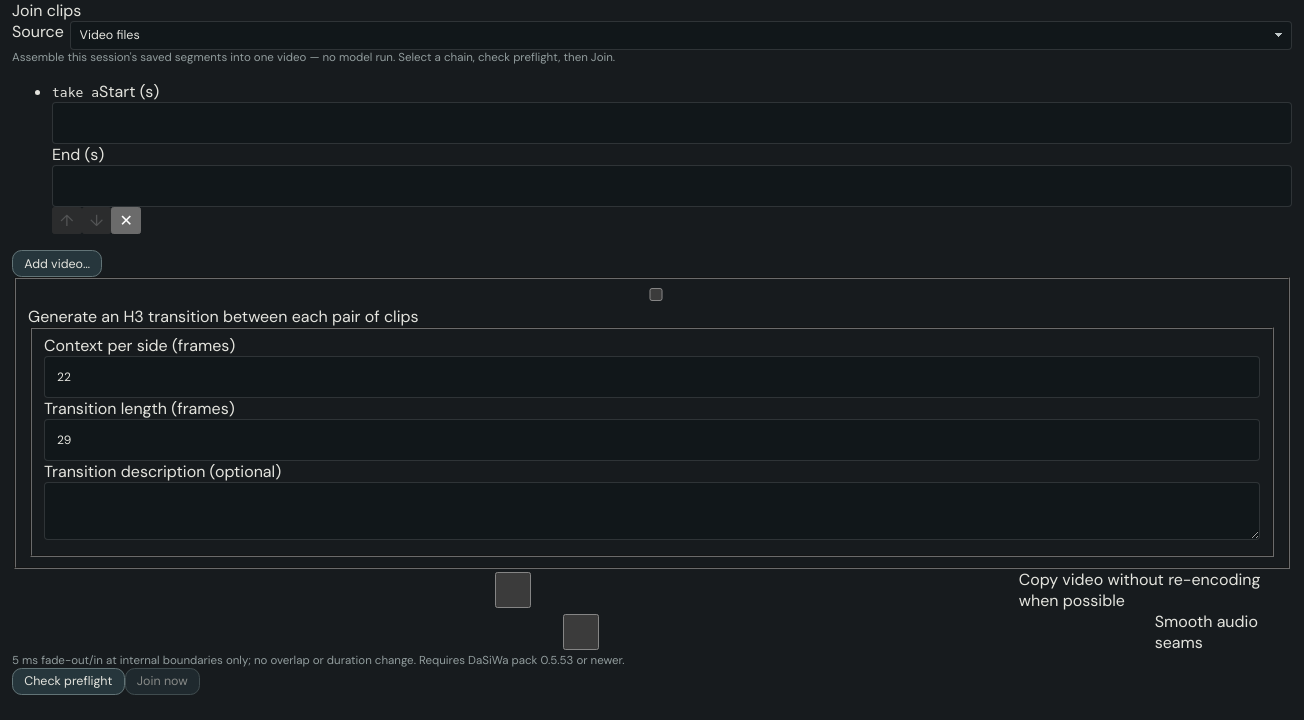
it: second cut missing stops future submissions and retains first bridge
The image size is (1304, 720).
Earlier steps of the test are not shown.
Click the button "Add video…" at (57, 264), box [12, 250, 102, 277]
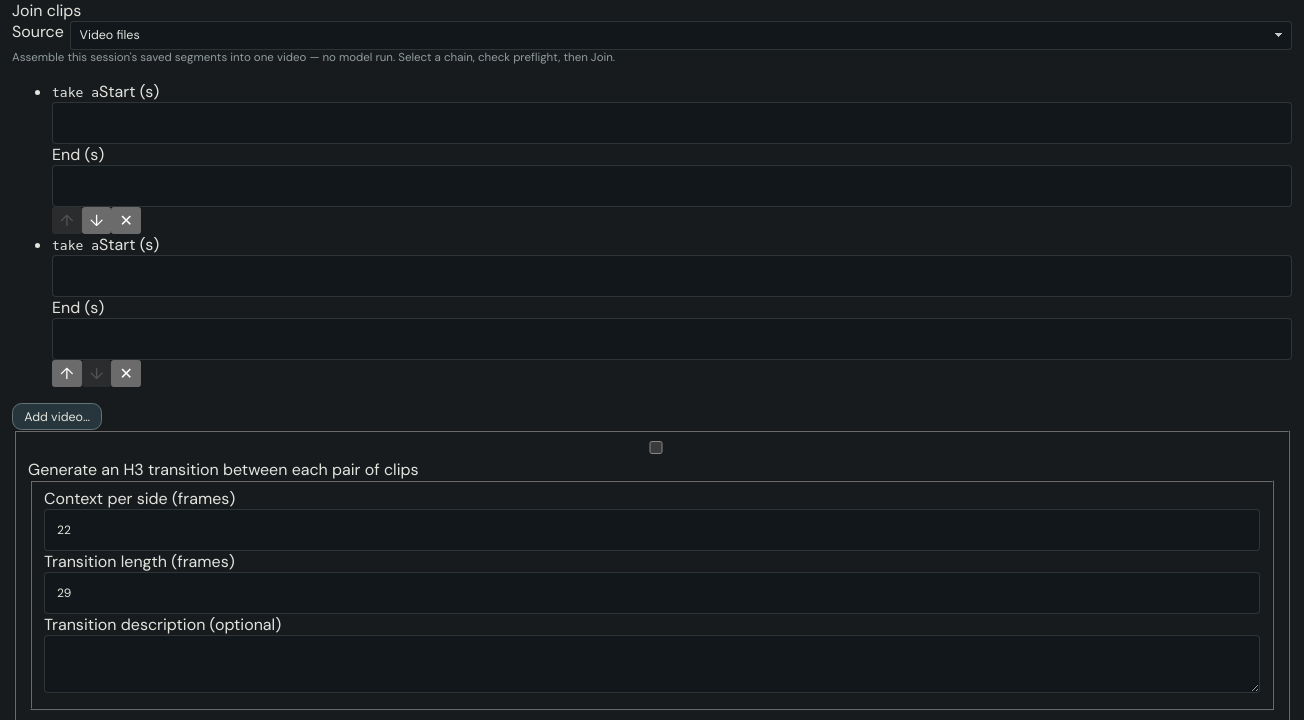
Click the button "Add video…" at (57, 417), box [12, 403, 102, 430]
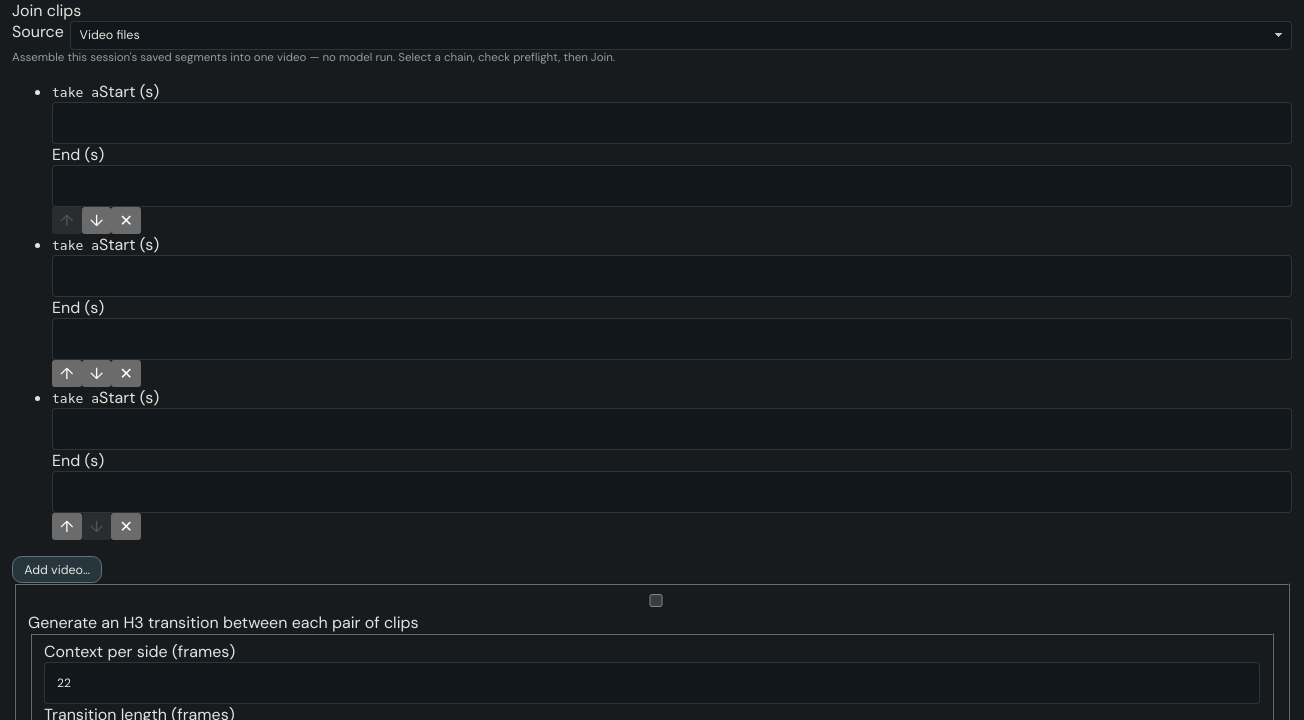
Click the button "Add video…" at (57, 570), box [12, 556, 102, 583]
(page scrolled)
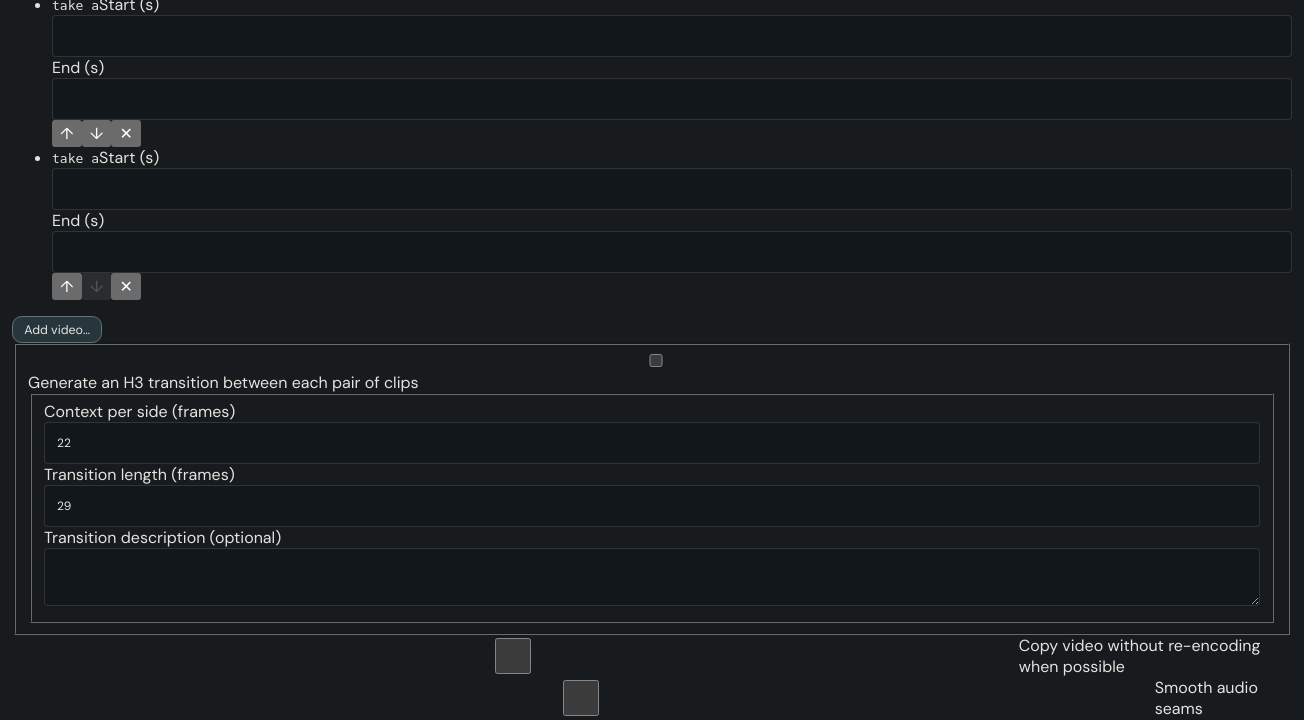
Click the checkbox labelled "Generate an H3 transition between each pair of clips" at (656, 360), box [32, 354, 1280, 367]
(page scrolled)
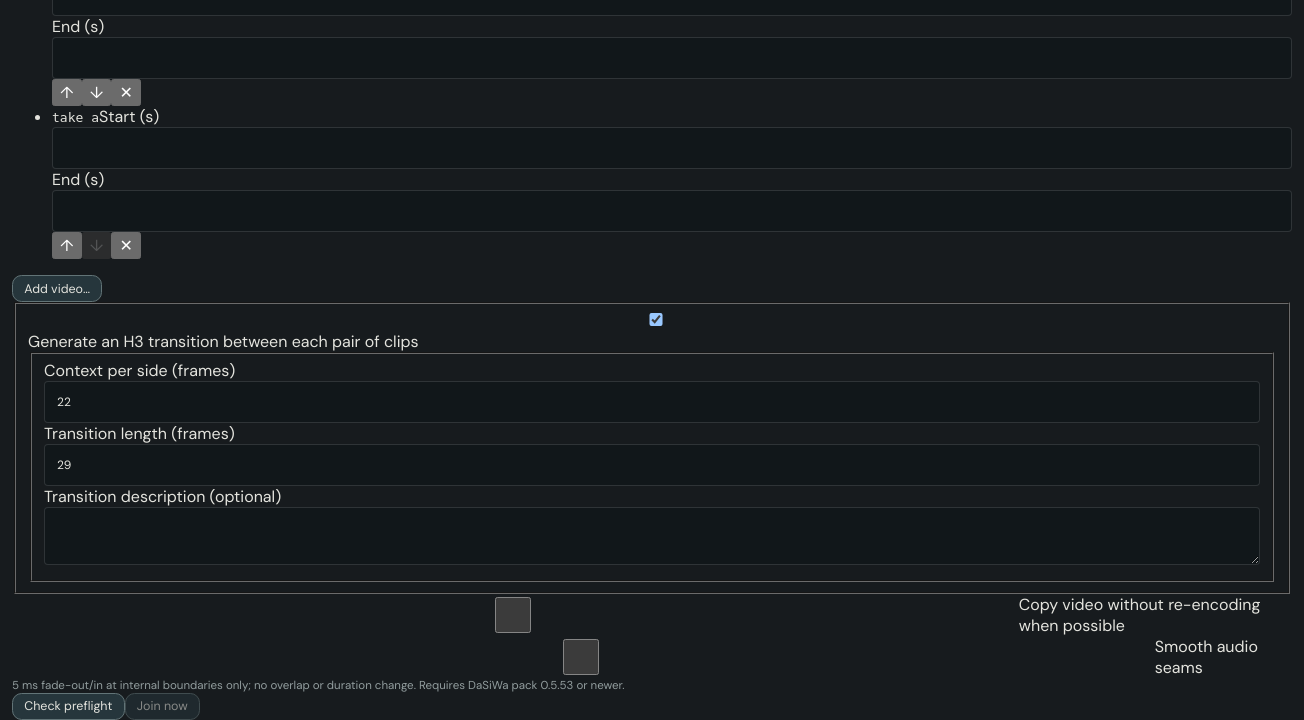
Click the button "Check preflight" at (68, 706), box [12, 693, 125, 719]
(page scrolled)
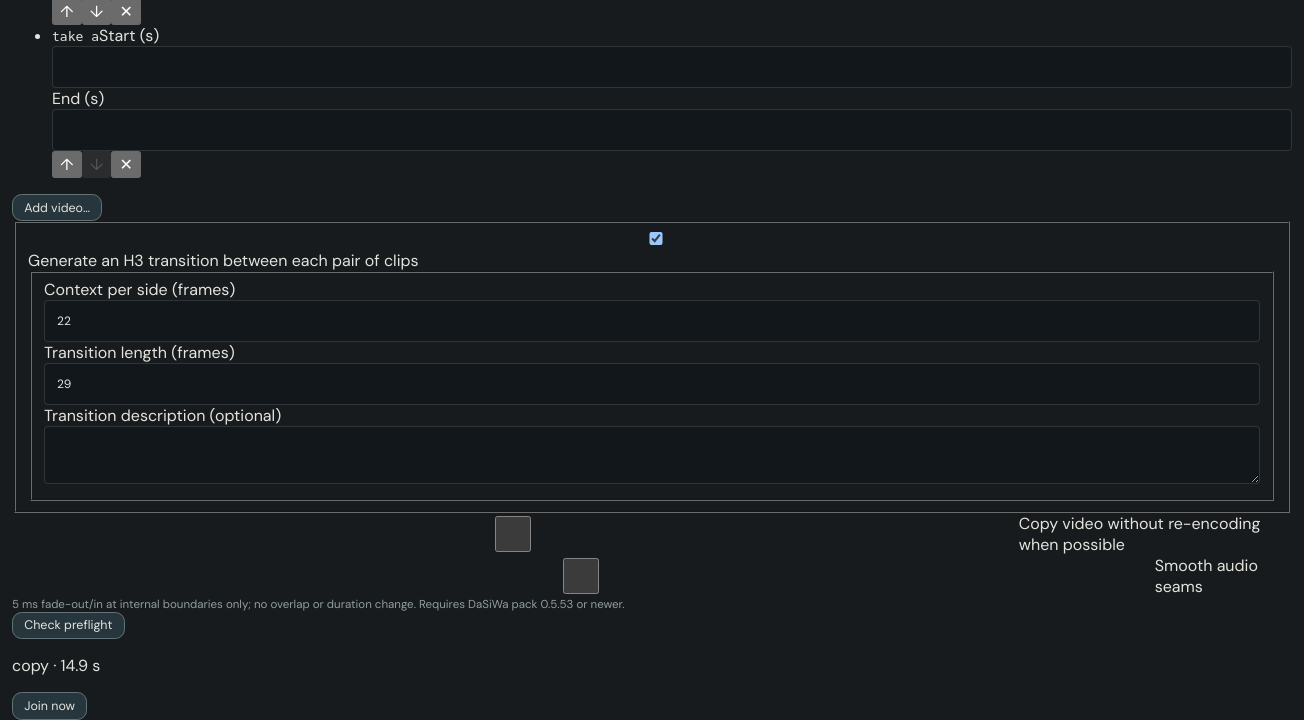
Click the button "Join now" at (50, 706), box [12, 692, 87, 719]
(page scrolled)
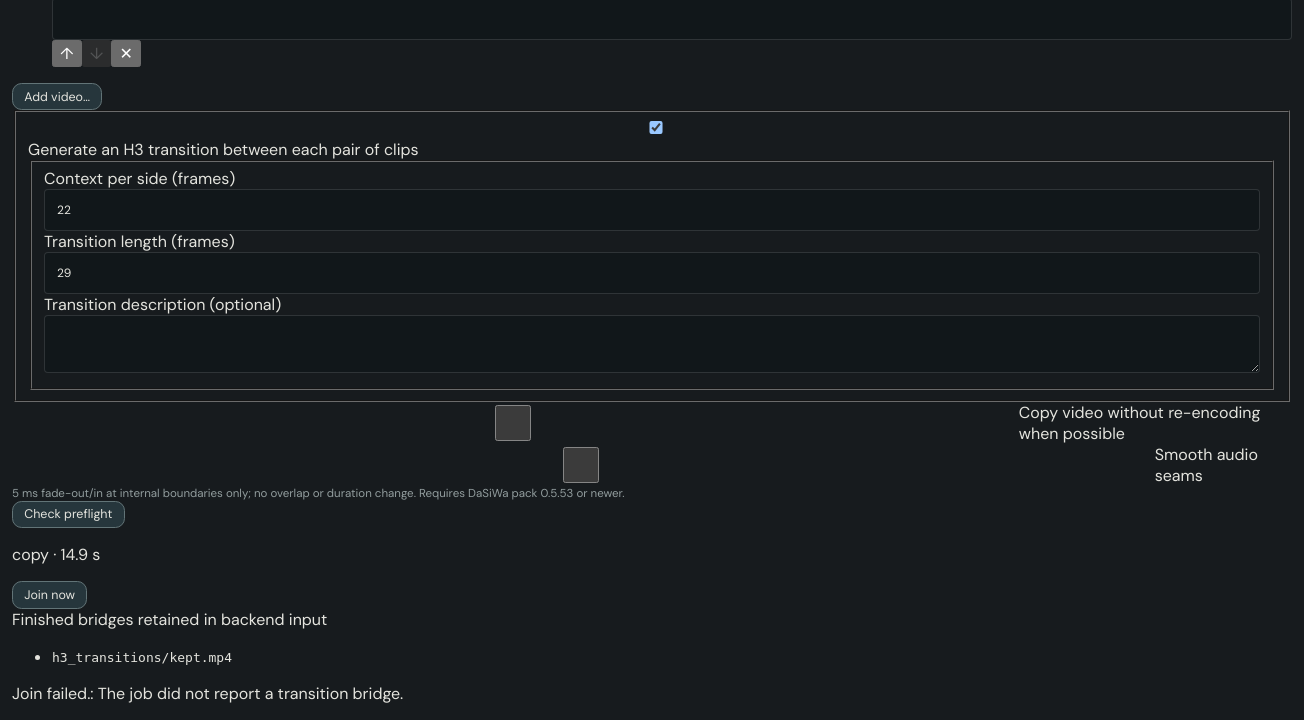
Expected: the text "h3_transitions/kept.mp4" is shown, [52, 650, 232, 665]
Expected: the message "Join failed.: The job did not report a transition bridge." is shown, [12, 683, 403, 704]
